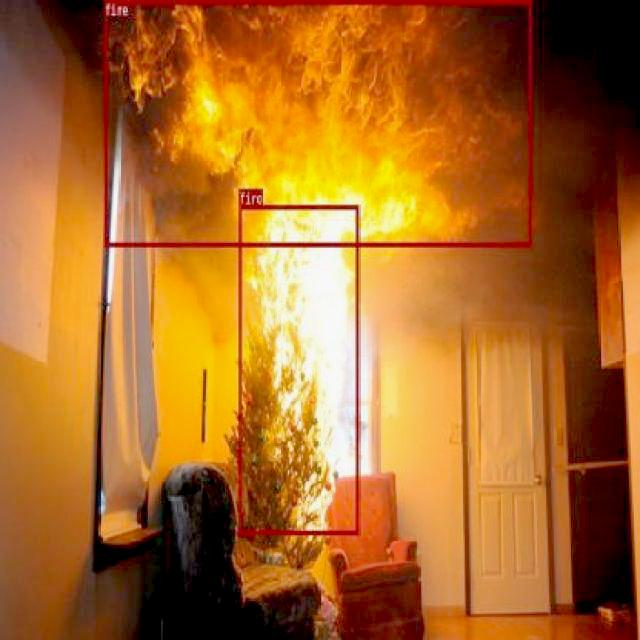fire: (103, 0, 531, 246), (238, 203, 358, 534)
